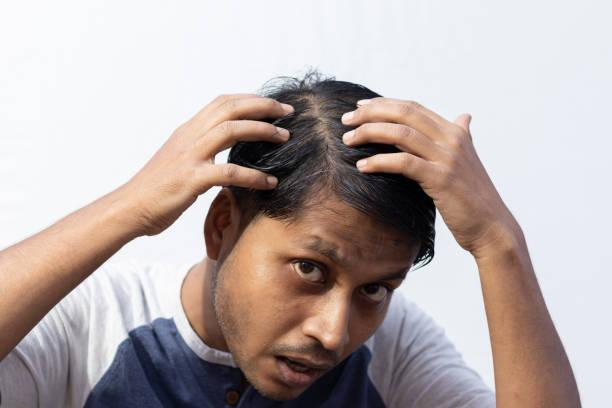low hair density: (318, 125, 338, 162), (305, 95, 325, 122), (324, 168, 341, 190)
